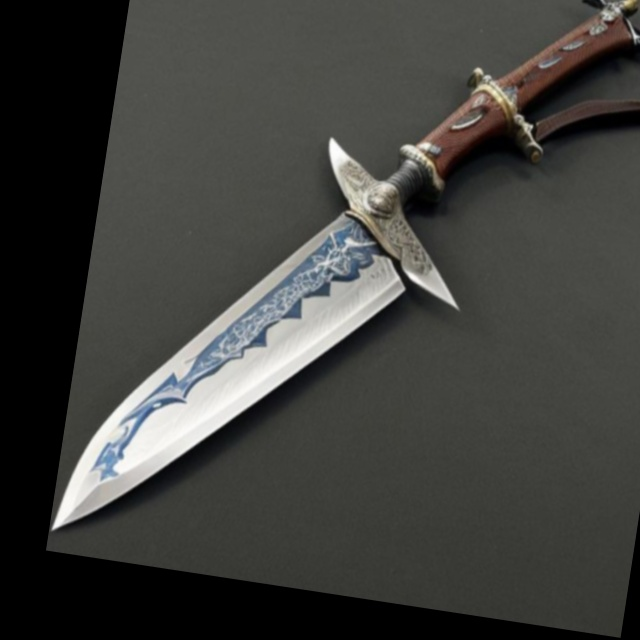Sharp-Object: (48, 0, 640, 623)
